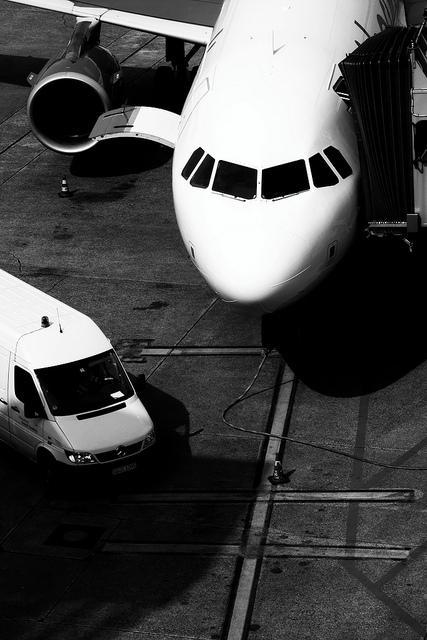truck: (0, 266, 163, 482)
